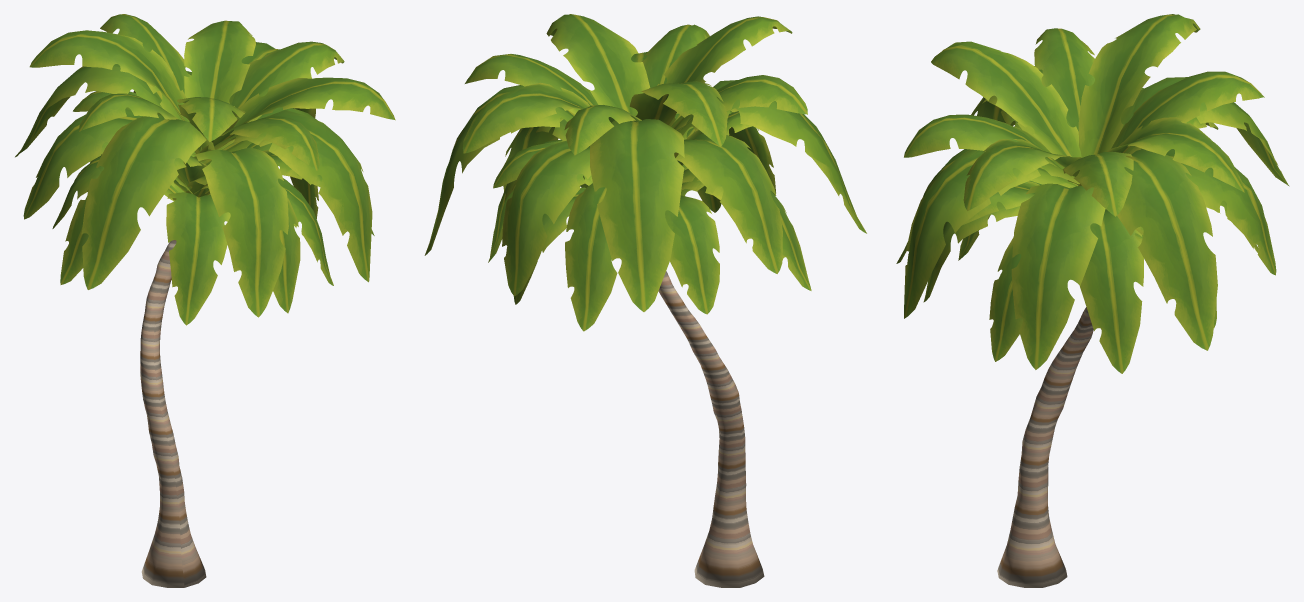
The model's file is PalmTree2.fbx.
3 renders of one model, left to right at view 1: azimuth 30°, elevation 25°; view 2: azimuth 150°, elevation 25°; view 3: azimuth 270°, elevation 25°, orthographic. The views are drawn at different scales.
Visible parts, largest first — view 1: Cylinder.009; view 2: Cylinder.009; view 3: Cylinder.009.
Boxes of the visible parts, left/top/right/bottom form: Cylinder.009: left=15, top=14, right=395, bottom=587; Cylinder.009: left=424, top=14, right=866, bottom=587; Cylinder.009: left=896, top=14, right=1289, bottom=587.
Bounding box in the file's own units: 1083 × 1654 × 1089.
